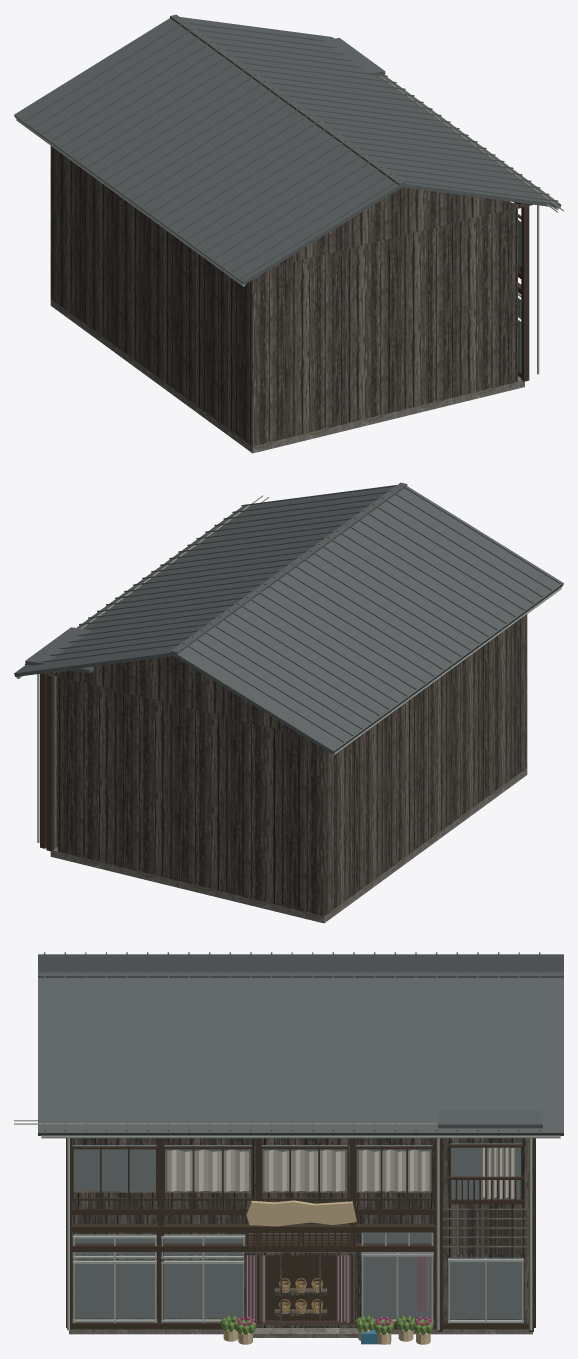
File: mori-workshop.glb
3 renders of one model, top to bottom at view 1: azimuth 30°, elevation 25°; view 2: azimuth 150°, elevation 25°; view 3: azimuth 270°, elevation 25°, orthographic. The views are drawn at different scales.
Parts seen in each view (by area): view 1: mori_Mori weathered grey brown cedar.001, mori_Mori charcoal sheet roof.003, mori_Foundation granite.015, mori_Dark structural timber.015, mori_Mori aged aluminium sash.003; view 2: mori_Mori weathered grey brown cedar.001, mori_Mori charcoal sheet roof.003, mori_Foundation granite.015, mori_Dark structural timber.015, mori_Mori aged aluminium sash.003; view 3: mori_Mori charcoal sheet roof.003, mori_Dark structural timber.015, mori_Mori smoky glazing.003, mori_Mori weathered grey brown cedar.001, mori_Mori upstairs cream curtains.003, mori_Mori aged aluminium sash.003, mori_Mori pale live edge sign.003, mori_Mori faded rose curtains.003, mori_Foundation granite.015, mori_Mori potted foliage.003, mori_Mori split maple basket strips.003.
Part boxes in pixels (x1=…): mori_Mori weathered grey brown cedar.001: x1=50, y1=146, x2=523, y2=446; mori_Mori charcoal sheet roof.003: x1=14, y1=14, x2=561, y2=284; mori_Foundation granite.015: x1=50, y1=299, x2=524, y2=453; mori_Dark structural timber.015: x1=513, y1=202, x2=532, y2=381; mori_Mori aged aluminium sash.003: x1=16, y1=75, x2=563, y2=374; mori_Mori weathered grey brown cedar.001: x1=50, y1=614, x2=527, y2=916; mori_Mori charcoal sheet roof.003: x1=14, y1=482, x2=563, y2=754; mori_Foundation granite.015: x1=50, y1=768, x2=527, y2=923; mori_Dark structural timber.015: x1=40, y1=671, x2=60, y2=851; mori_Mori aged aluminium sash.003: x1=16, y1=495, x2=561, y2=842; mori_Mori charcoal sheet roof.003: x1=38, y1=952, x2=563, y2=1135; mori_Dark structural timber.015: x1=66, y1=1138, x2=535, y2=1331; mori_Mori smoky glazing.003: x1=73, y1=1143, x2=522, y2=1319; mori_Mori weathered grey brown cedar.001: x1=72, y1=1138, x2=528, y2=1327; mori_Mori upstairs cream curtains.003: x1=167, y1=1147, x2=514, y2=1199; mori_Mori aged aluminium sash.003: x1=14, y1=1120, x2=560, y2=1330; mori_Mori pale live edge sign.003: x1=223, y1=1200, x2=430, y2=1344; mori_Mori faded rose curtains.003: x1=246, y1=1255, x2=428, y2=1322; mori_Foundation granite.015: x1=69, y1=1328, x2=532, y2=1337; mori_Mori potted foliage.003: x1=220, y1=1315, x2=433, y2=1335; mori_Mori split maple basket strips.003: x1=279, y1=1278, x2=322, y2=1313.
Bounding box in the file's own units: 11.64 × 8.53 × 14.93.
13 materials, 2 textured.
